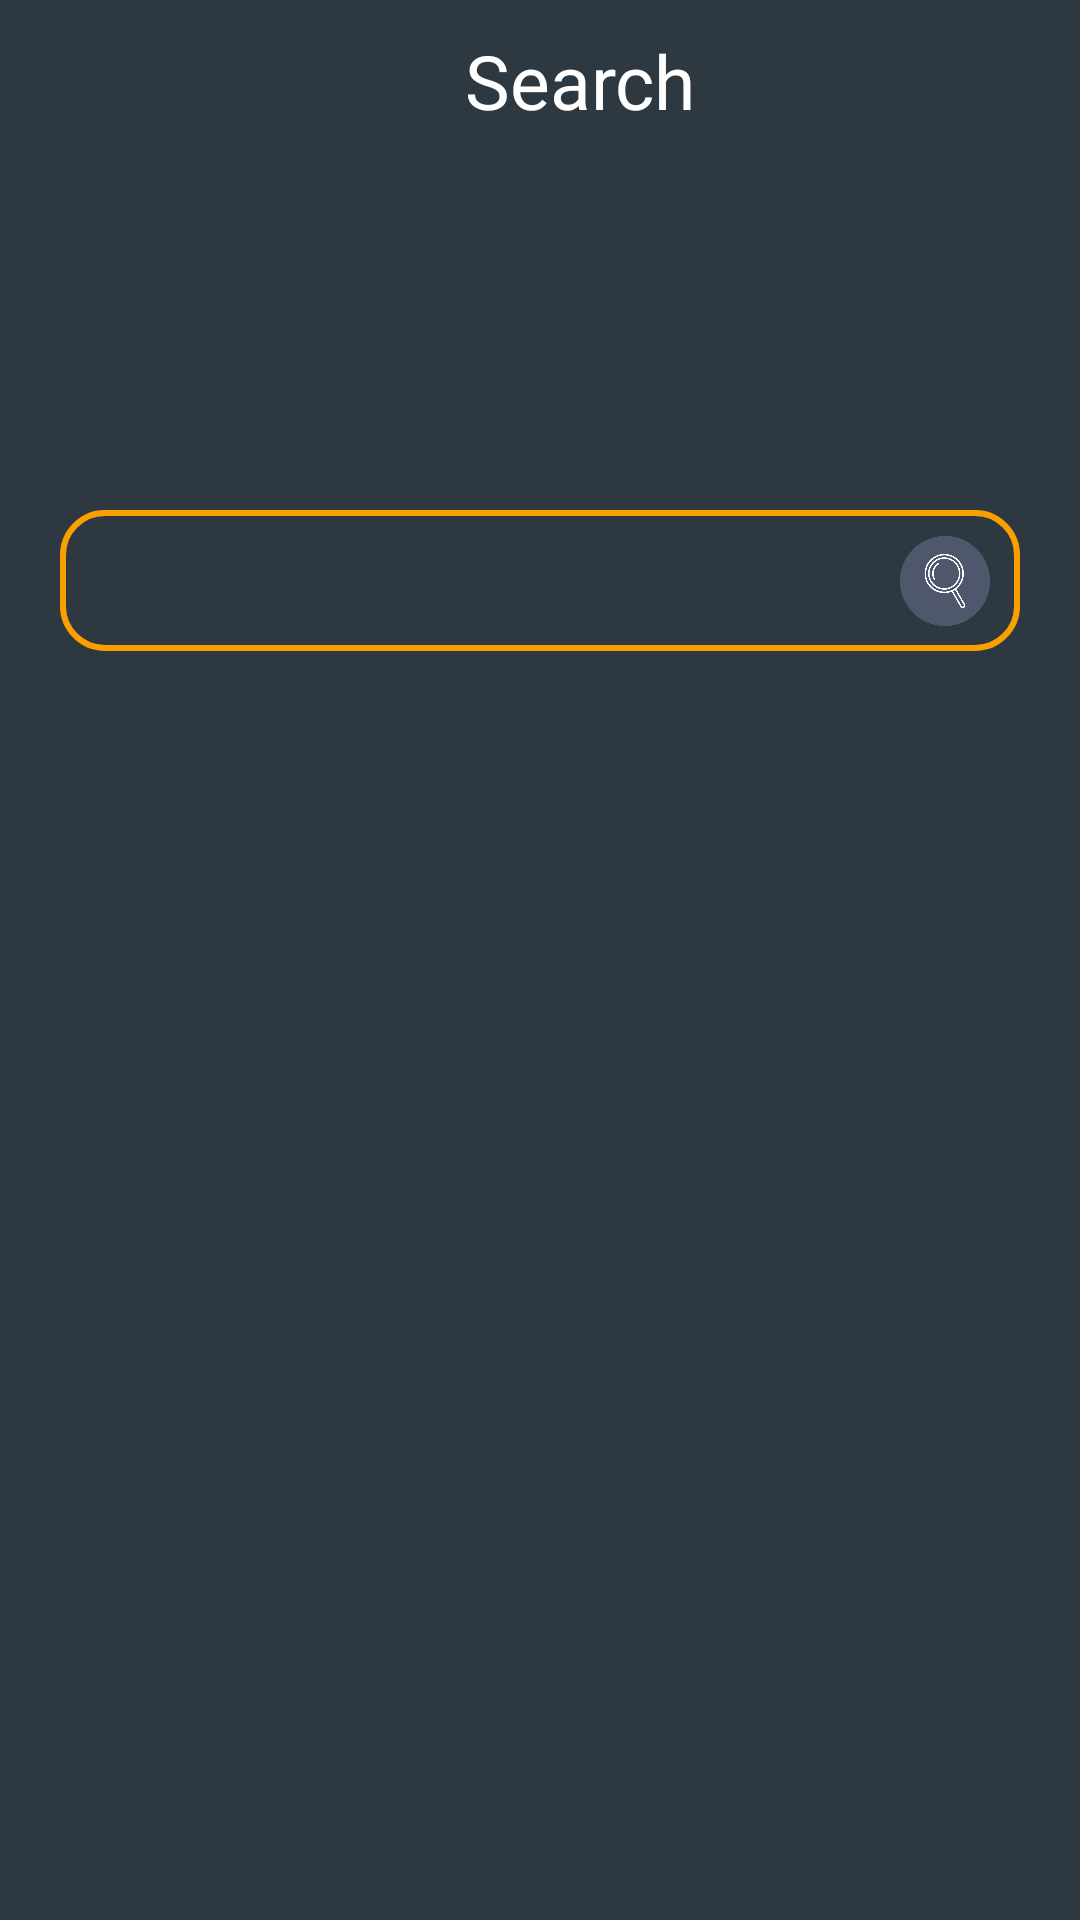

Locate icon controls on the screen. Image size 1080 x 1920, boxes as (x1, y1, x2, y2).
search: (900, 536, 990, 626)
